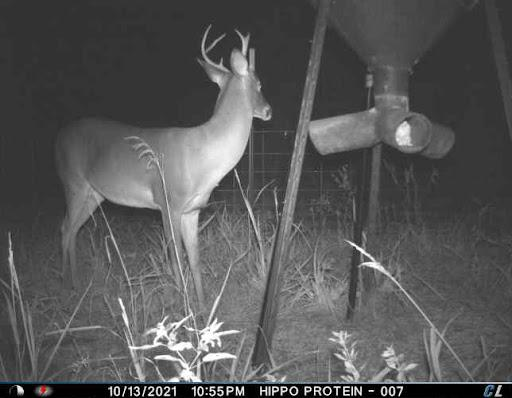Deer: (42, 19, 278, 330)
